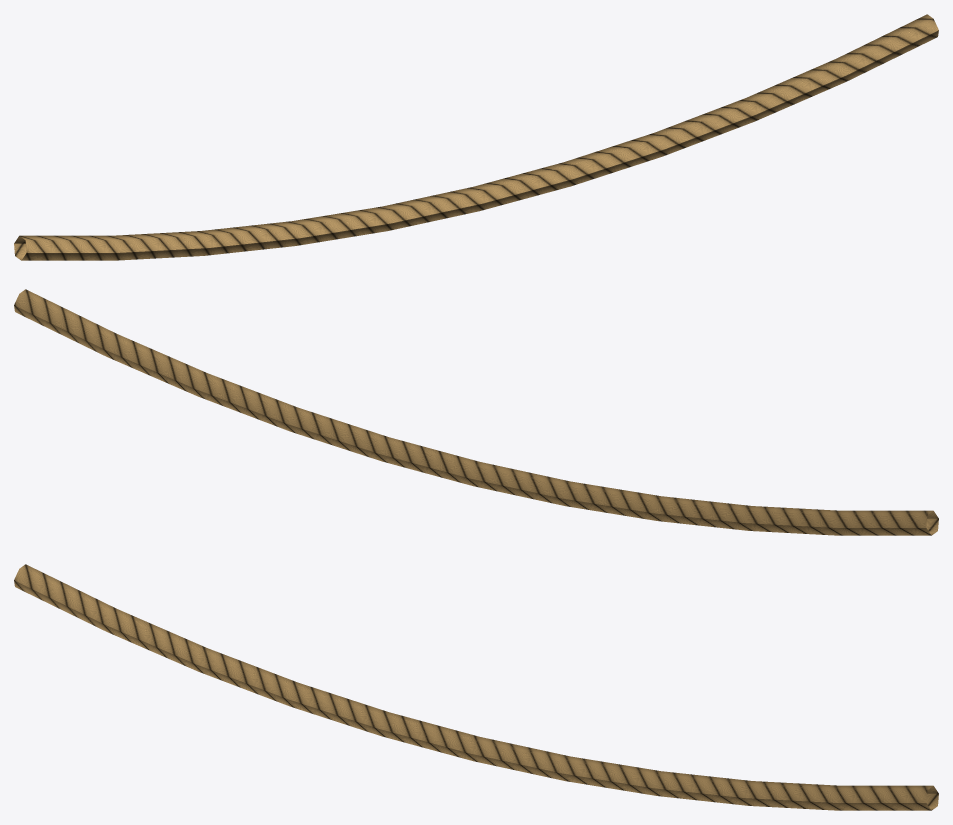
File: rope-span.glb
The picture shows the model from 3 angles, top to bottom: view 1: azimuth 30°, elevation 25°; view 2: azimuth 150°, elevation 25°; view 3: azimuth 330°, elevation 25°; orthographic projection.
Visible parts, largest first — view 1: rope-span; view 2: rope-span; view 3: rope-span.
Part boxes in pixels (x1,y1,x2,y2): rope-span: (14, 14, 938, 260); rope-span: (14, 289, 938, 535); rope-span: (14, 564, 938, 810).
Bounding box in the file's own units: 2.01 × 0.171 × 0.048.
Materials: 1 (1 with a texture image).
